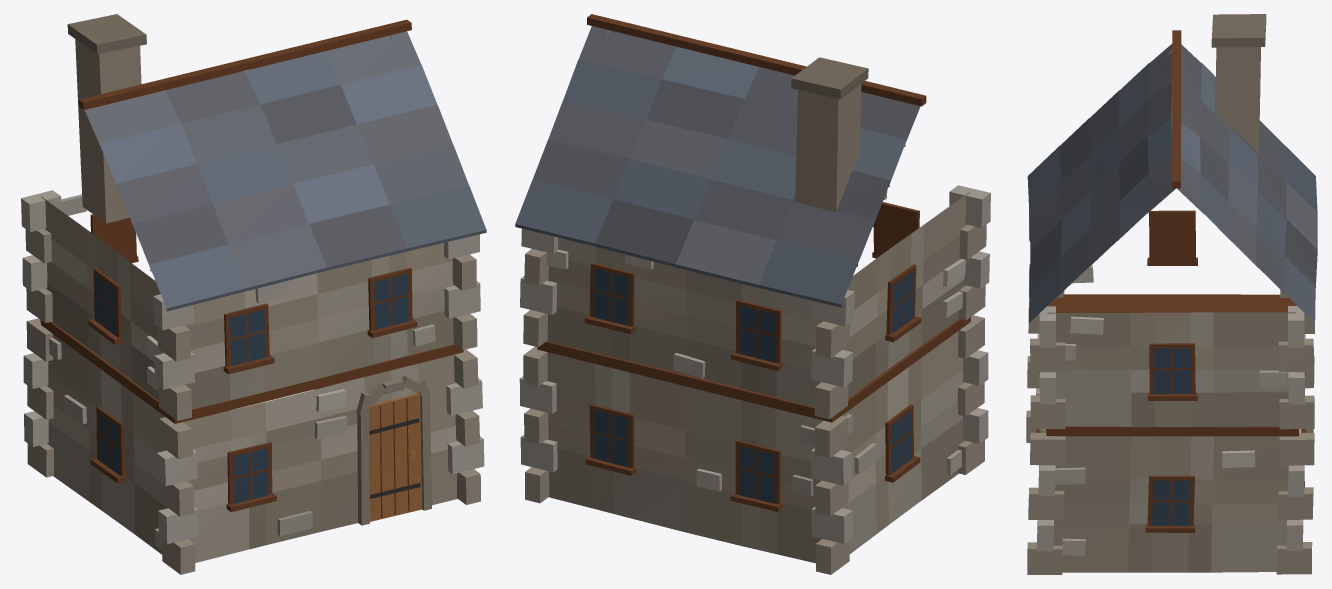
File: stone-house-2.glb
The picture shows the model from 3 angles, left to right: view 1: azimuth 30°, elevation 25°; view 2: azimuth 150°, elevation 25°; view 3: azimuth 270°, elevation 25°; orthographic projection. The views are drawn at different scales.
Parts seen in each view (by area): view 1: buildings/stone-house-2; view 2: buildings/stone-house-2; view 3: buildings/stone-house-2.
Boxes of the visible parts, box(x1,y1,x2,y2) form: buildings/stone-house-2: box(21, 14, 486, 574); buildings/stone-house-2: box(515, 14, 990, 574); buildings/stone-house-2: box(1026, 14, 1317, 574).
Bounding box in the file's own units: 5.75 × 7.59 × 4.66.
